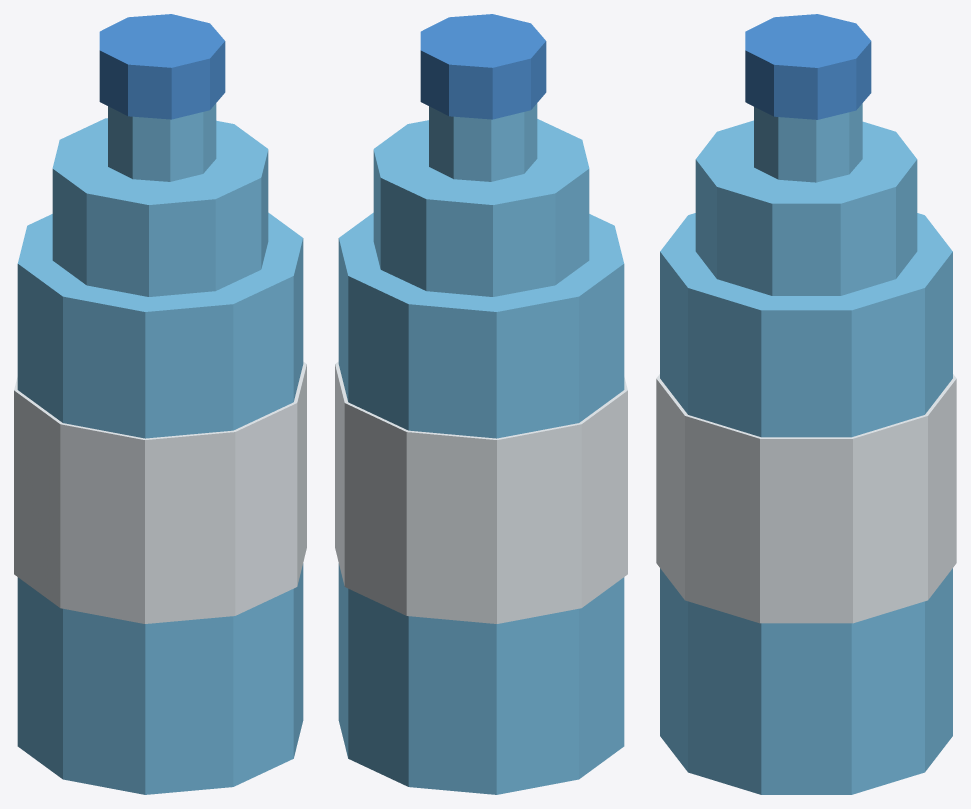
Rendered from Water.glb.
The picture shows the model from 3 angles, left to right: view 1: azimuth 30°, elevation 25°; view 2: azimuth 150°, elevation 25°; view 3: azimuth 270°, elevation 25°; orthographic projection.
Visible parts, largest first — view 1: Water_Bottle, Water_LabelBand, Water_BottleCap; view 2: Water_Bottle, Water_LabelBand, Water_BottleCap; view 3: Water_Bottle, Water_LabelBand, Water_BottleCap.
Part boxes in pixels (x1,y1,x2,y2): Water_Bottle: (17, 103, 303, 794); Water_LabelBand: (14, 361, 306, 623); Water_BottleCap: (99, 14, 225, 119); Water_Bottle: (338, 103, 624, 794); Water_LabelBand: (335, 361, 627, 623); Water_BottleCap: (420, 14, 546, 119); Water_Bottle: (660, 103, 952, 794); Water_LabelBand: (656, 374, 956, 623); Water_BottleCap: (745, 14, 871, 119).
Bounding box in the file's own units: 0.2244 × 0.6025 × 0.236.
